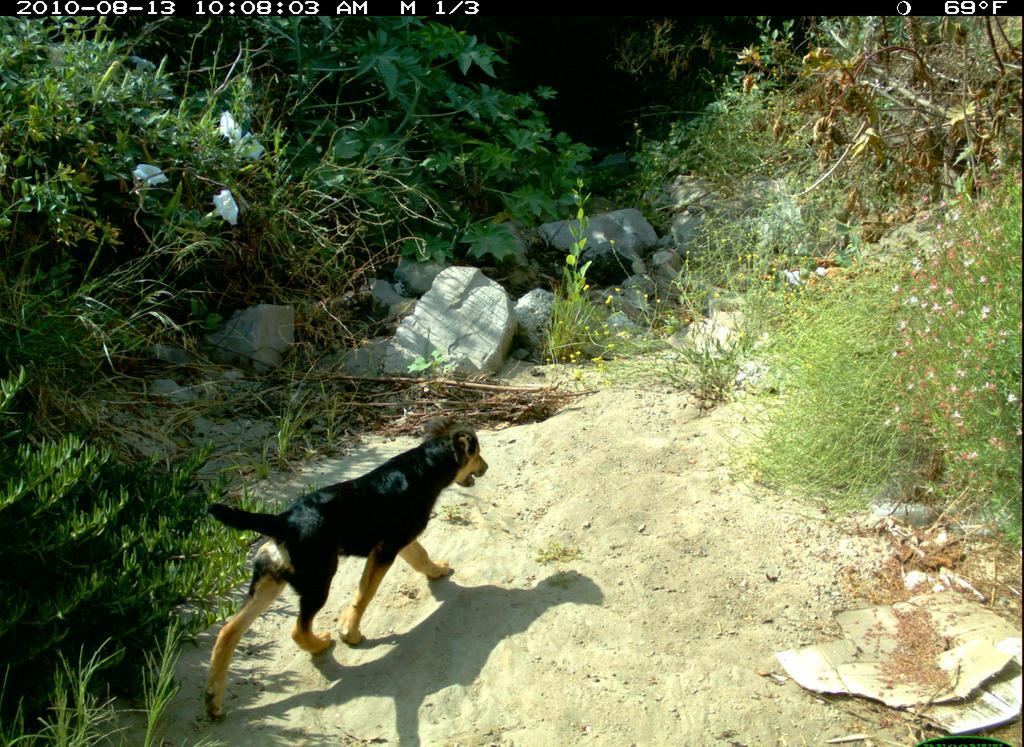dog: (195, 417, 498, 728)
